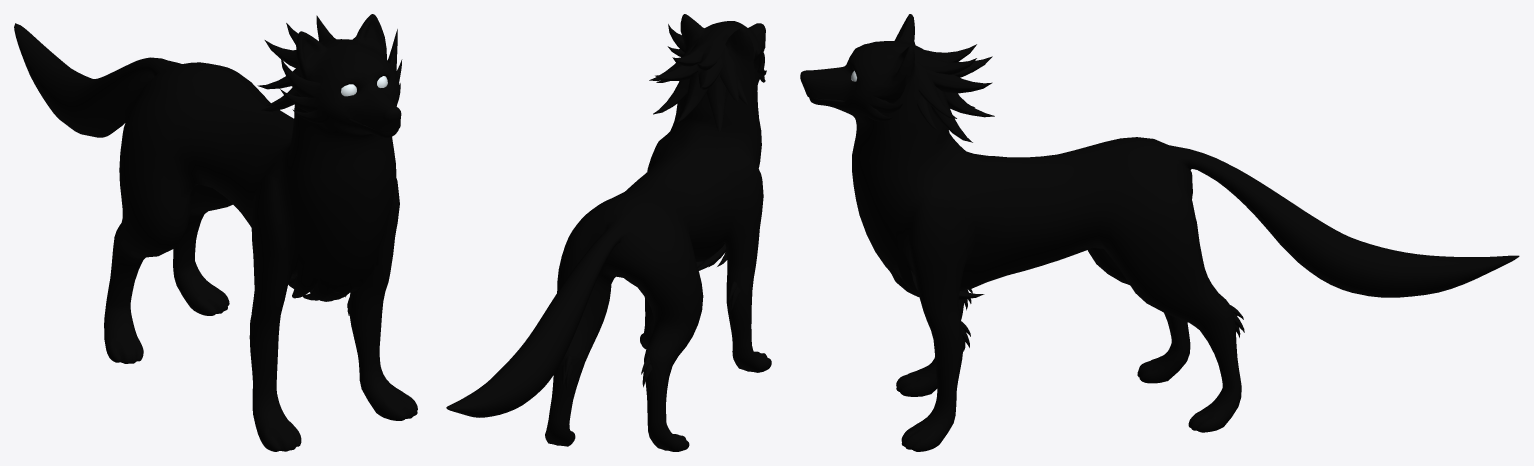
The model's file is posedEiko.fbx.
The picture shows the model from 3 angles, left to right: view 1: azimuth 30°, elevation 25°; view 2: azimuth 150°, elevation 25°; view 3: azimuth 270°, elevation 25°; orthographic projection. The views are drawn at different scales.
Parts seen in each view (by area): view 1: body; view 2: body; view 3: body.
Boxes of the visible parts, bbox=[...] form: body: bbox=[14, 14, 417, 451]; body: bbox=[446, 14, 771, 451]; body: bbox=[800, 14, 1519, 451].
Bounding box in the file's own units: 40.08 × 86.99 × 147.
1 material, 1 textured.
